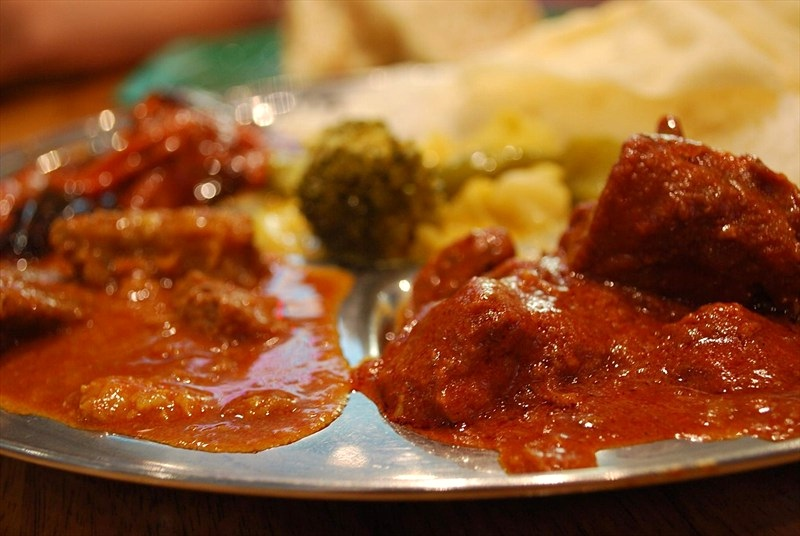Rendang: (137, 30, 688, 497)
